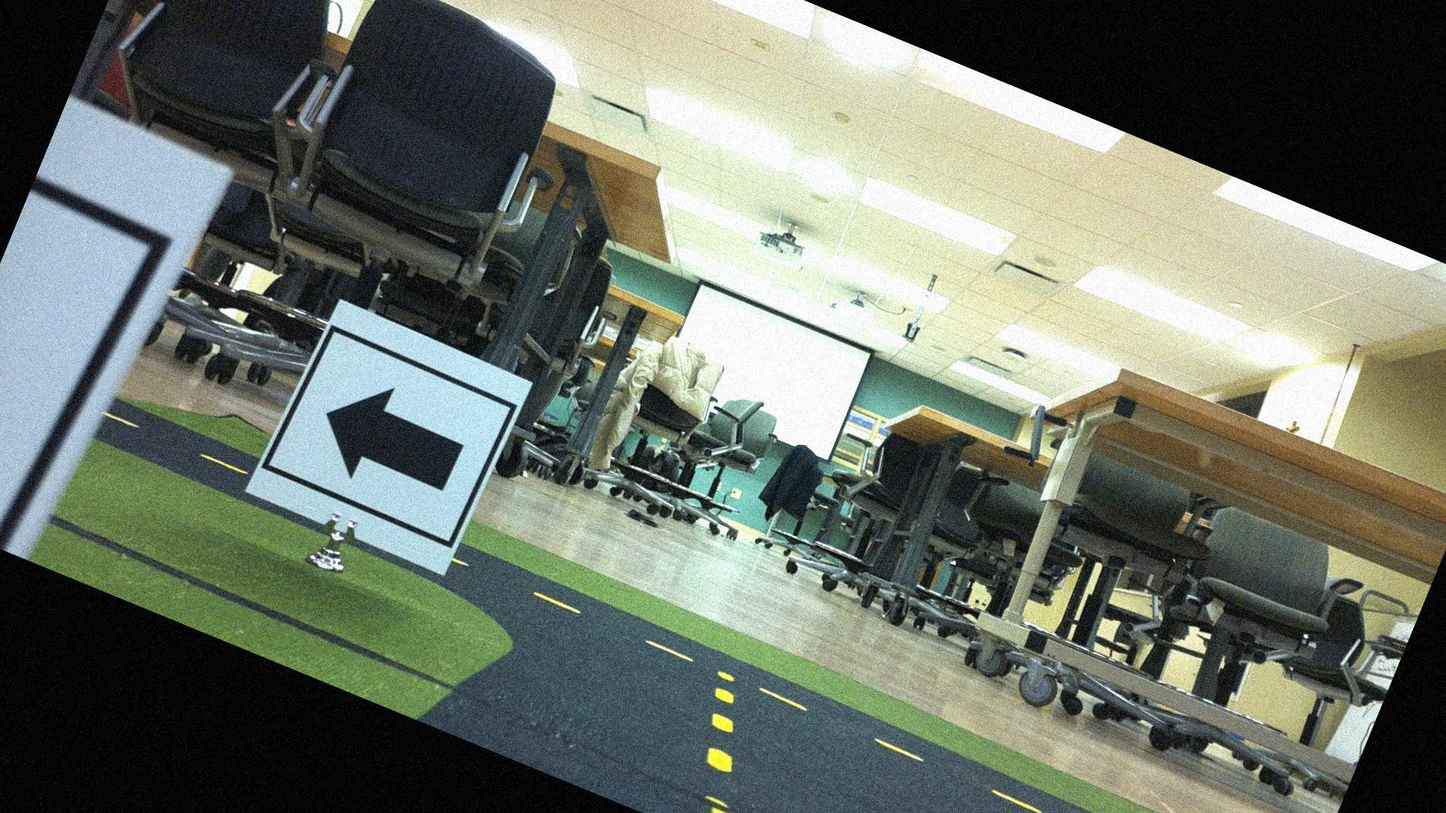turnleft: (256, 302, 520, 574)
yellowline: (529, 591, 1299, 812), (688, 689, 755, 775)
